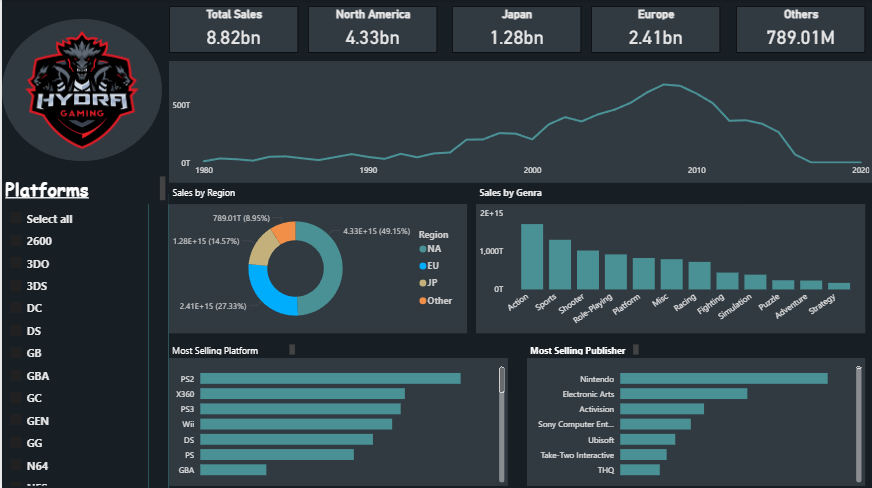

The dashboard page shown, as its layout file describes it:
{"tool":"powerbi","page":{"name":"Vg Sales Analysis ","canvas":[1280,720],"ordinal":0},"visuals":[{"type":"card","title":"Total Sales","fields":{"Values":["Sum(vgsales.Sales)"]},"box":[245.2,10.1,189.8,68.9],"z":0},{"type":"card","title":"North America","fields":{"Values":["Sum(vgsales.Sales)"]},"box":[450.2,10.1,189.8,68.9],"z":1000},{"type":"card","title":"Japan","fields":{"Values":["Sum(vgsales.Sales)"]},"box":[661.8,10.1,189.8,68.9],"z":2000},{"type":"card","title":"Europe","fields":{"Values":["Sum(vgsales.Sales)"]},"box":[865.1,10.1,189.8,68.9],"z":3000},{"type":"card","title":"Others","fields":{"Values":["Sum(vgsales.Sales)"]},"box":[1078.4,10.1,189.8,68.9],"z":4000},{"type":"lineChart","fields":{"Y":["vgsales.Sales Calculations"],"Category":["vgsales.Year"]},"box":[245.4,91.1,1034.4,179.3],"z":5000},{"type":"donutChart","fields":{"Y":["vgsales.Sales Calculations"],"Category":["vgsales.Region"]},"box":[245.4,301.2,437.9,189.6],"z":6000},{"type":"columnChart","fields":{"Category":["vgsales.Genre"],"Y":["vgsales.Sales Calculations"]},"box":[696.5,301.2,571.6,189.6],"z":7000},{"type":"clusteredBarChart","fields":{"Y":["vgsales.Sales Calculations"],"Category":["vgsales.Platform"]},"box":[245.4,527.5,498.1,188.1],"z":8000},{"type":"clusteredBarChart","fields":{"Y":["vgsales.Sales Calculations"],"Category":["vgsales.Publisher"]},"box":[771.4,527.5,496.7,188.1],"z":9000},{"type":"textbox","box":[245.4,270.4,138.1,30.9],"z":10000},{"type":"textbox","box":[696.5,270.4,395.3,30.9],"z":11000},{"type":"textbox","box":[771.4,502.5,169,25],"z":12000},{"type":"textbox","box":[245.4,502.5,189.6,25],"z":13000},{"type":"shape","box":[0,29.4,235.1,208.7],"z":14000},{"type":"image","box":[20.6,47,194,173.4],"z":15000},{"type":"slicer","fields":{"Values":["vgsales.Platform"]},"box":[0,301.2,235.1,418.8],"z":16000},{"type":"shape","box":[214.5,286.5,30.9,433.5],"z":17000},{"type":"textbox","box":[0,255.7,245.4,45.6],"z":18000}]}

Visuals, with their boxes in screenshot pixels (x1, y1, x2, y2), scaled from the page's 1280x720 canvas onto the 872x488 screenshot:
"Total Sales" card: bbox=(167, 7, 296, 54)
"North America" card: bbox=(307, 7, 436, 54)
"Japan" card: bbox=(451, 7, 580, 54)
"Europe" card: bbox=(589, 7, 719, 54)
"Others" card: bbox=(735, 7, 864, 54)
lineChart - vgsales.Sales Calculations x vgsales.Year: bbox=(167, 62, 871, 183)
donutChart - vgsales.Sales Calculations x vgsales.Region: bbox=(167, 204, 465, 333)
columnChart - vgsales.Genre x vgsales.Sales Calculations: bbox=(474, 204, 864, 333)
clusteredBarChart - vgsales.Sales Calculations x vgsales.Platform: bbox=(167, 358, 507, 485)
clusteredBarChart - vgsales.Sales Calculations x vgsales.Publisher: bbox=(526, 358, 864, 485)
textbox: bbox=(167, 183, 261, 204)
textbox: bbox=(474, 183, 744, 204)
textbox: bbox=(526, 341, 641, 358)
textbox: bbox=(167, 341, 296, 358)
shape: bbox=(0, 20, 160, 161)
image: bbox=(14, 32, 146, 149)
slicer - vgsales.Platform: bbox=(0, 204, 160, 487)
shape: bbox=(146, 194, 167, 487)
textbox: bbox=(0, 173, 167, 204)
